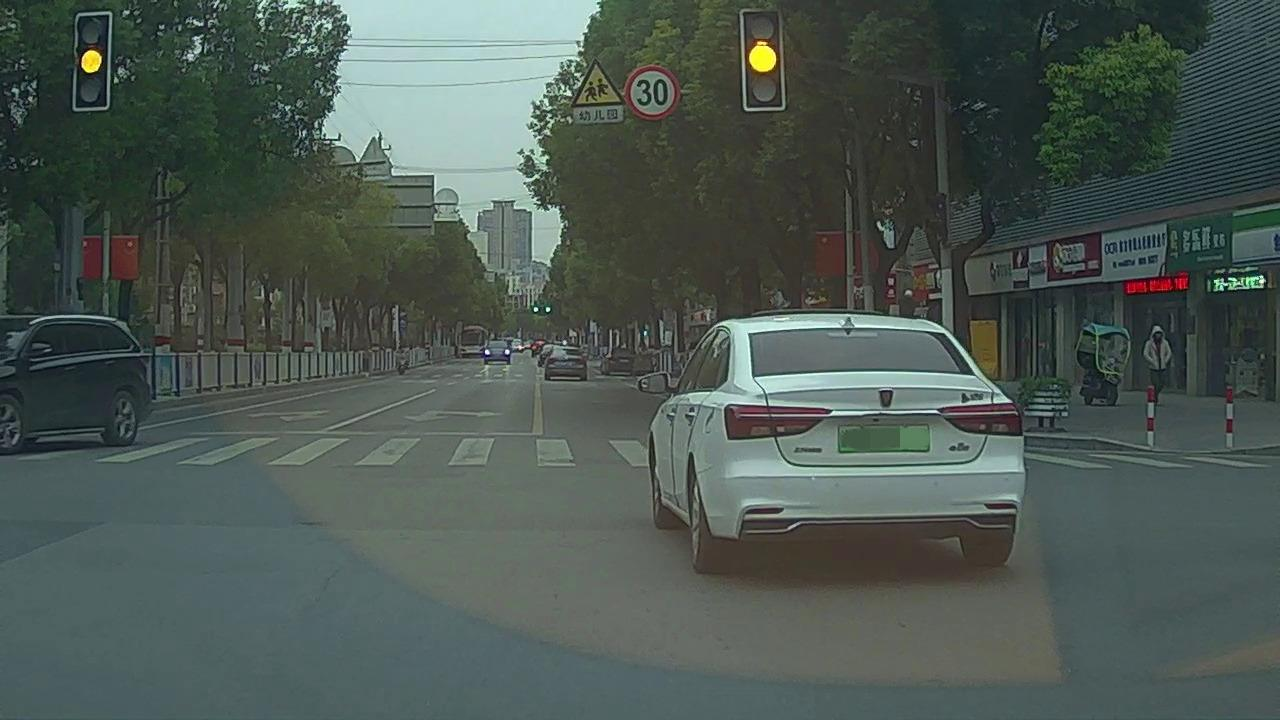traffic_light: (742, 10, 784, 108), (77, 15, 107, 107)
